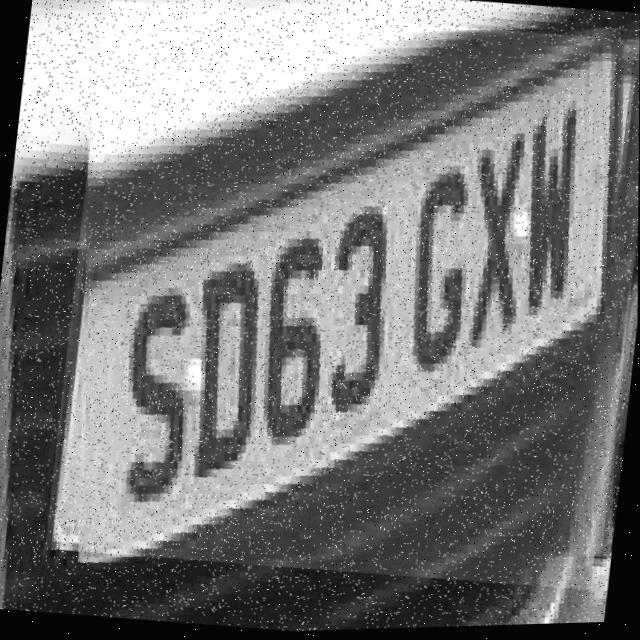LicensePlate: (44, 0, 640, 607)
